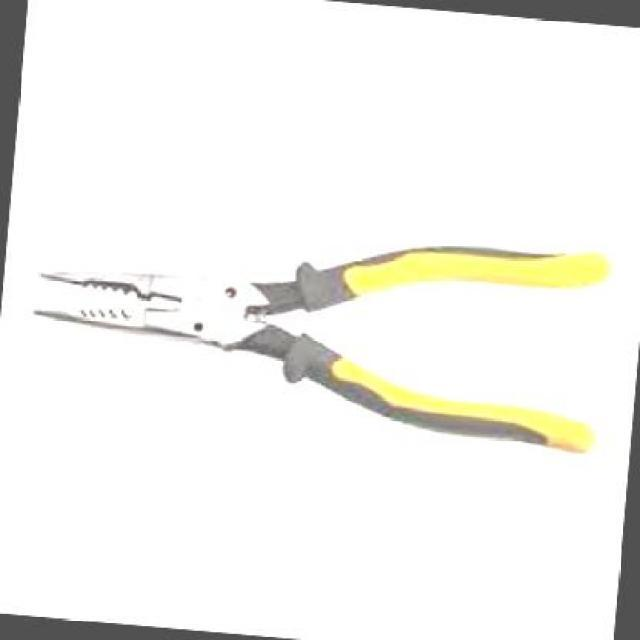pliers: (23, 192, 639, 472)
